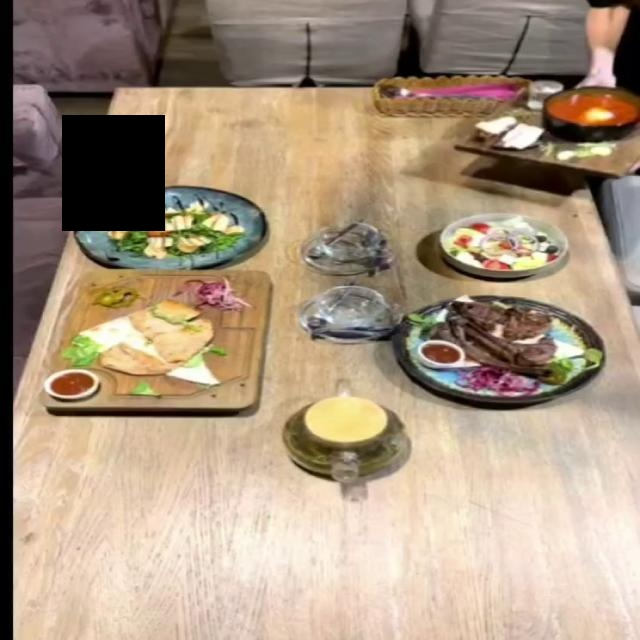meat: (43, 267, 278, 414), (390, 295, 606, 404)
salad: (71, 185, 263, 267), (438, 211, 570, 277)
soup: (453, 70, 640, 167)
tea: (280, 394, 410, 481)
